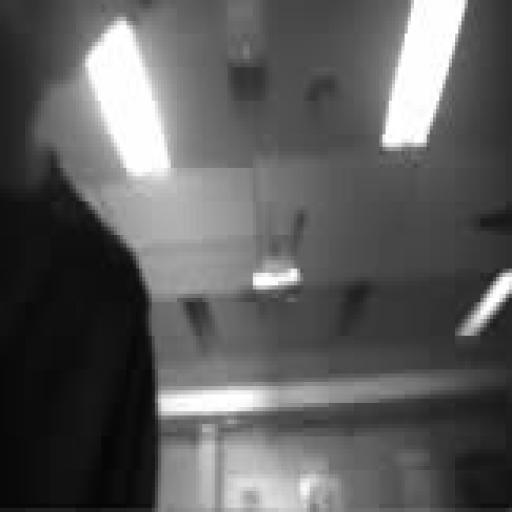human: (0, 0, 158, 507)
